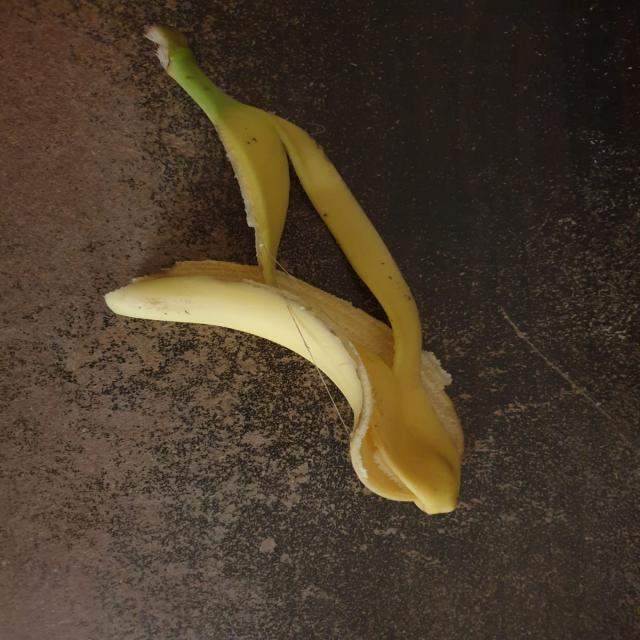banana-peel: (103, 21, 465, 515)
